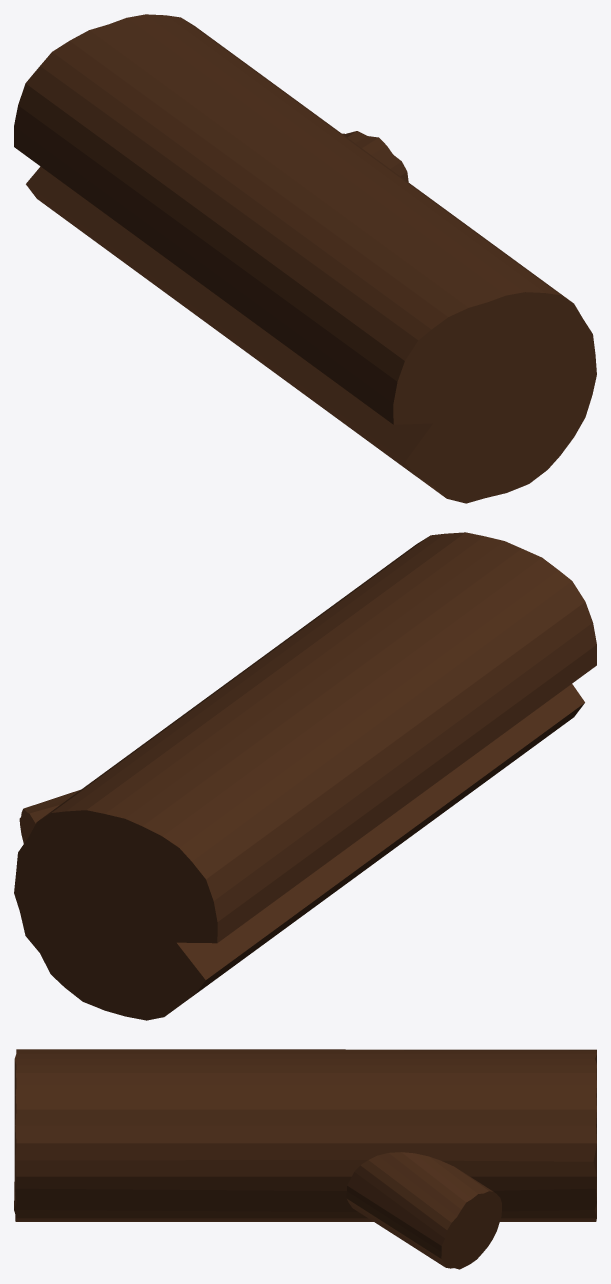
The model's file is Campfire_bank.fbx.
3 renders of one model, top to bottom at view 1: azimuth 30°, elevation 25°; view 2: azimuth 150°, elevation 25°; view 3: azimuth 270°, elevation 25°, orthographic. The views are drawn at different scales.
Visible parts, largest first — view 1: Cylinder.001; view 2: Cylinder.001; view 3: Cylinder.001.
Part boxes in pixels (x1,y1,x2,y2): Cylinder.001: (14, 14, 596, 503); Cylinder.001: (14, 532, 596, 1020); Cylinder.001: (14, 1049, 596, 1269).
Bounding box in the file's own units: 104 × 66.48 × 232.
